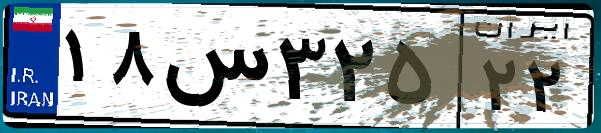1: (57, 26, 110, 100)
2: (330, 28, 385, 110), (475, 38, 525, 113), (525, 38, 570, 115)
3: (270, 28, 330, 110)
5: (385, 28, 445, 110)
8: (110, 28, 158, 98)
س: (158, 20, 270, 120)
